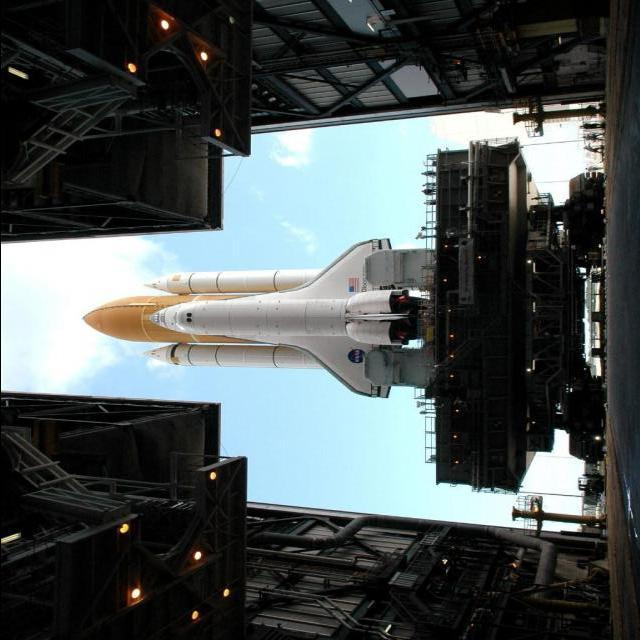missile: (144, 340, 332, 380), (145, 264, 325, 296)
